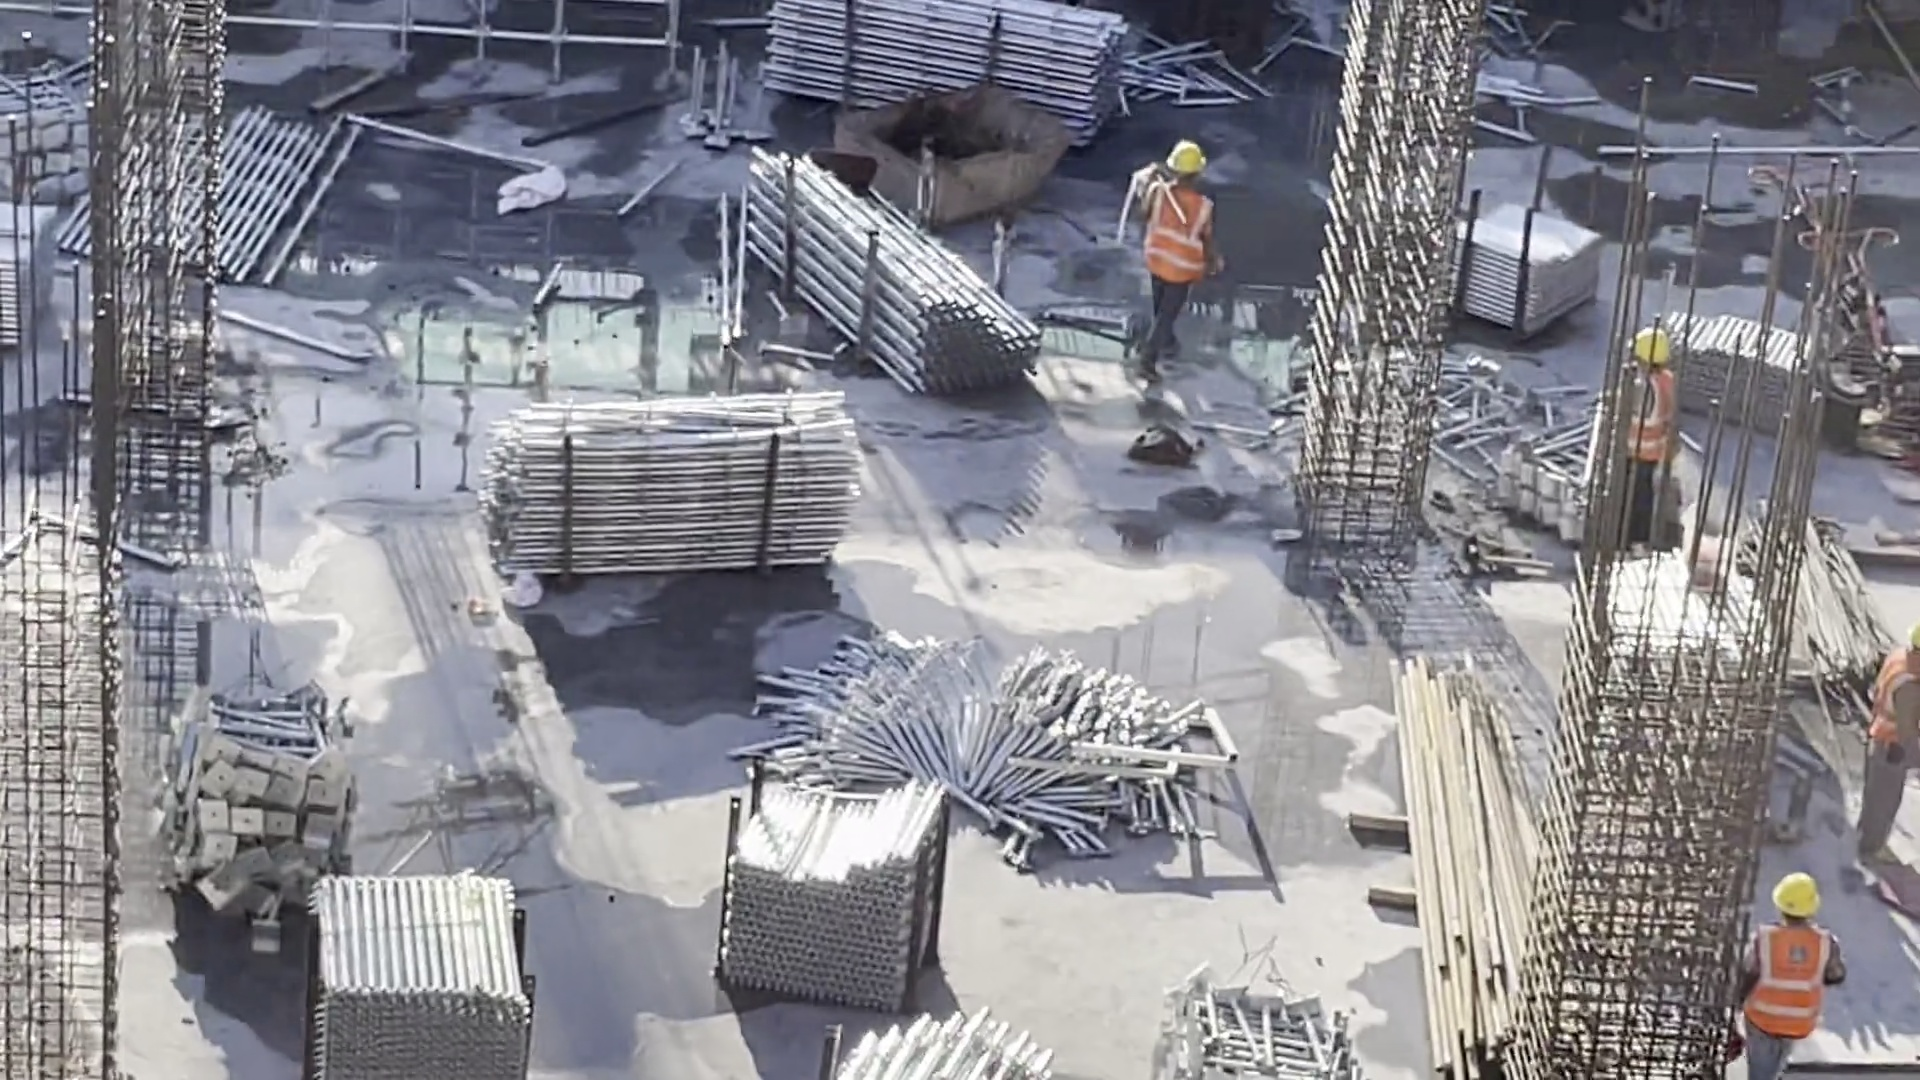helmet: (1774, 876, 1819, 922), (1632, 332, 1684, 367), (1164, 143, 1212, 179)
hopper: (844, 82, 1081, 224)
person: (1125, 139, 1229, 387), (1738, 872, 1838, 1080), (1610, 331, 1692, 571), (1859, 613, 1918, 887)
scaffold: (756, 617, 1182, 851), (743, 160, 1049, 405), (473, 394, 837, 571), (720, 772, 969, 1016), (759, 1, 1115, 159), (311, 876, 545, 1080), (165, 722, 351, 925), (1688, 304, 1847, 442), (1152, 968, 1339, 1080), (1449, 189, 1585, 331), (1, 64, 128, 202), (1507, 430, 1642, 549), (826, 1016, 1062, 1080), (1, 210, 62, 341)
vest: (1748, 925, 1829, 1034), (1148, 177, 1210, 284), (1880, 654, 1918, 759), (1632, 368, 1672, 459)
